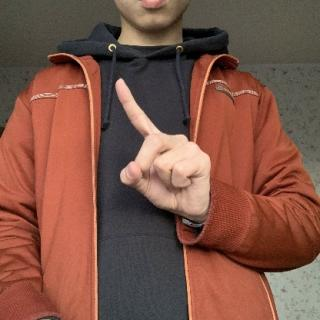BAA: (110, 73, 212, 221)
